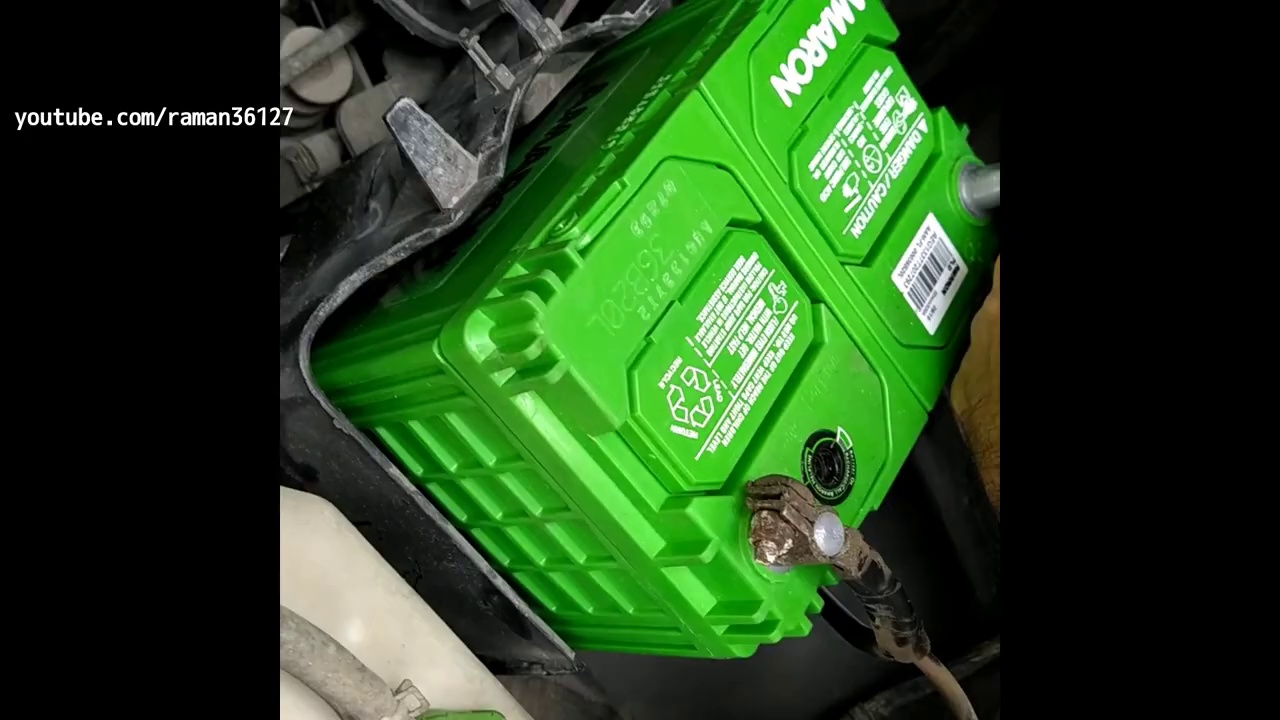battery: (504, 7, 1004, 653)
